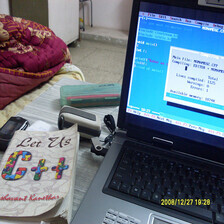laptop: (59, 1, 224, 224)
